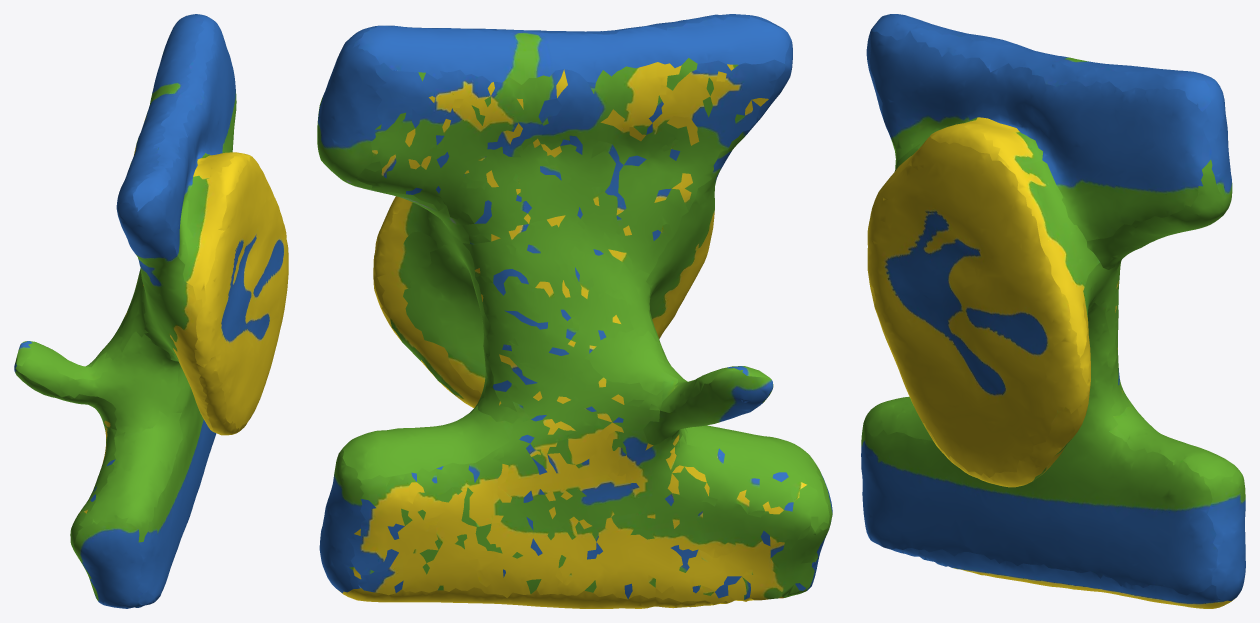
The model's file is wiggleboard.glb.
The picture shows the model from 3 angles, left to right: view 1: azimuth 30°, elevation 25°; view 2: azimuth 150°, elevation 25°; view 3: azimuth 270°, elevation 25°; orthographic projection. The views are drawn at different scales.
Parts seen in each view (by area): view 1: geometry_0; view 2: geometry_0; view 3: geometry_0.
Part boxes in pixels (box(x1,y1,x2,y2)): geometry_0: box(14, 14, 288, 608); geometry_0: box(317, 14, 832, 608); geometry_0: box(861, 14, 1245, 608).
Size of the model in its own units: 0.5909 by 0.8943 by 0.5472.
1 material, 1 textured.
